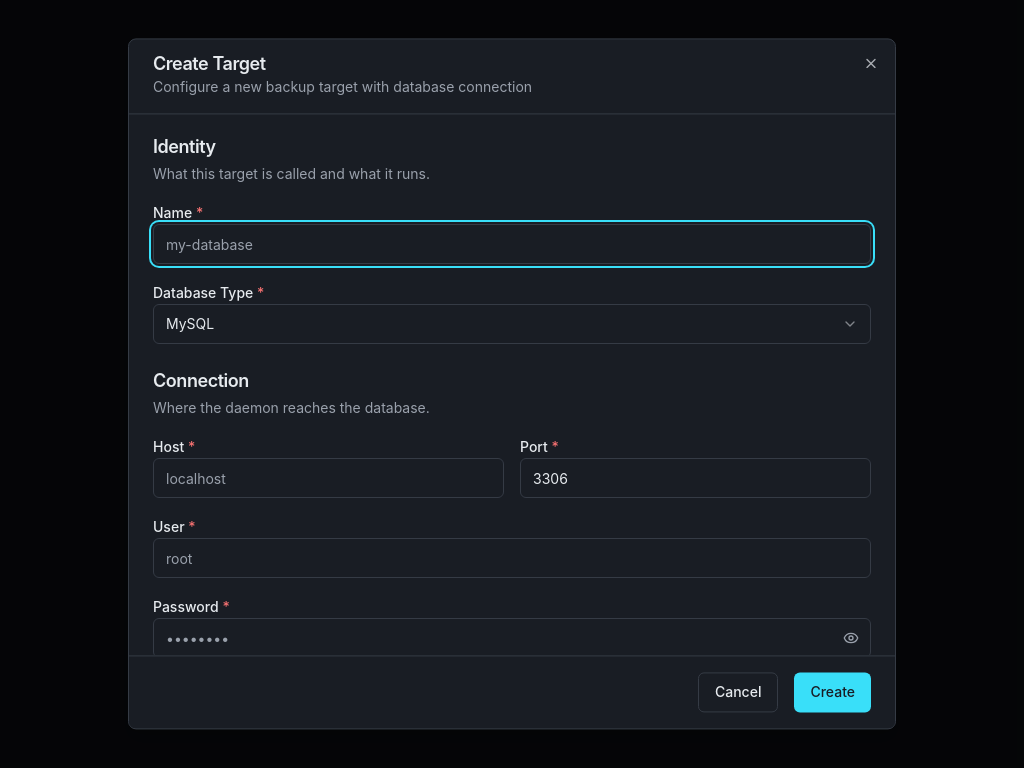
Test: TargetForm › validation › rejects a port outside the valid range
Replace the text in the number field labelled "Port *" with "70000" at [696, 478], box [520,458,871,498]
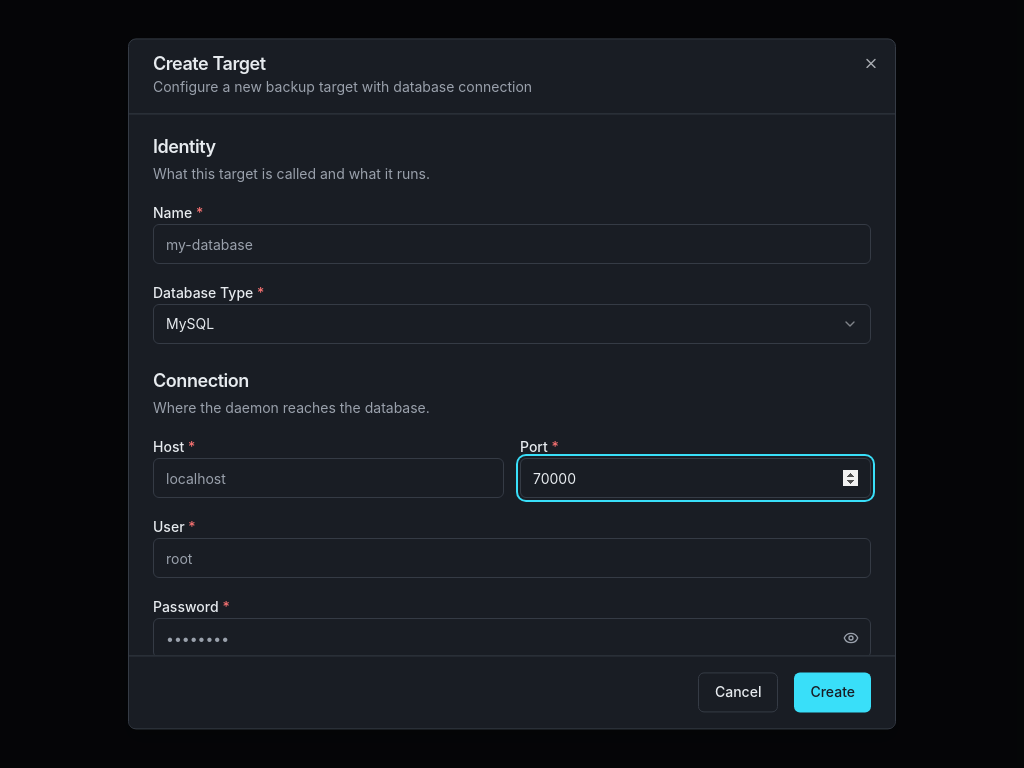
Click the button "Create".
click(833, 693)  # box [794,673,871,713]
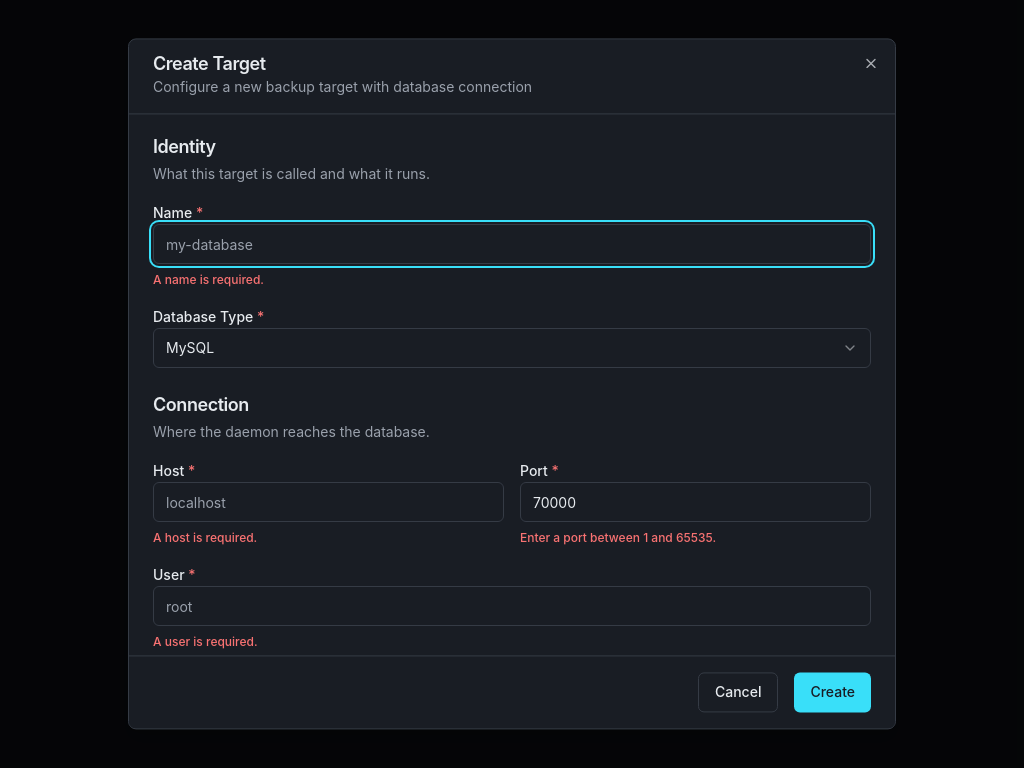
Expected: the text "Enter a port between 1 and 65535." is shown, [520,530,716,545]
